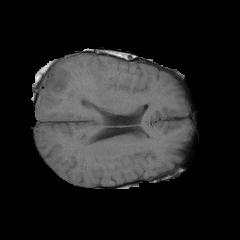glioma: (39, 65, 95, 111)
